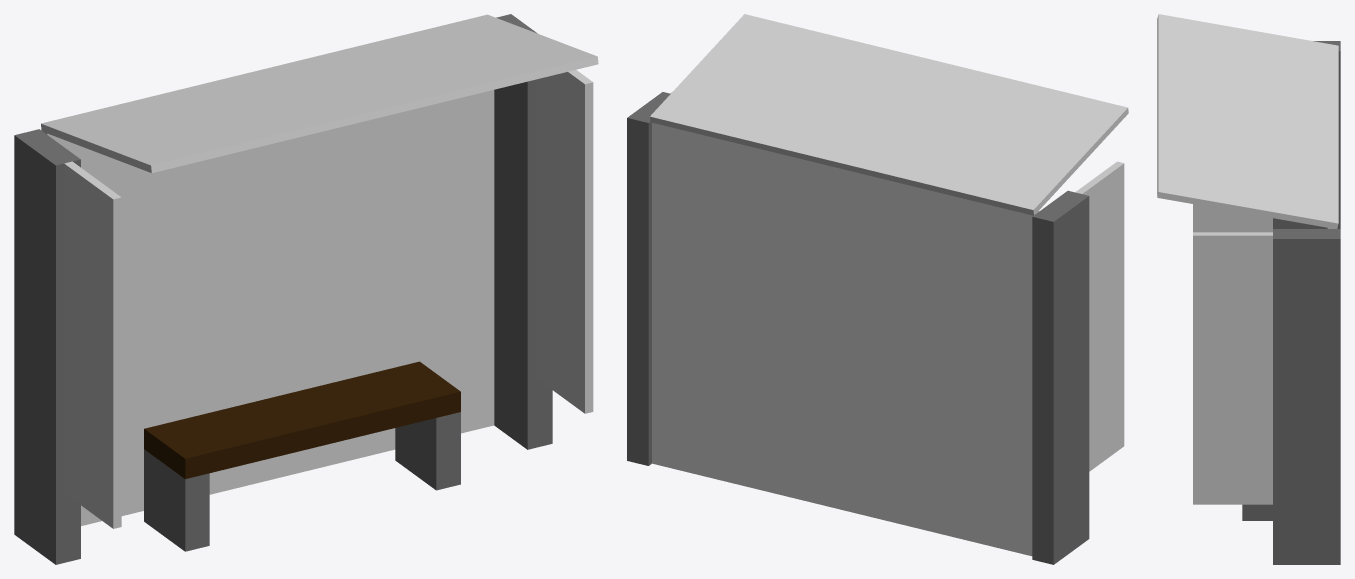
The model's file is BusStopLvl2.fbx.
3 views of the same model, side by side, from view 1: azimuth 30°, elevation 25°; view 2: azimuth 150°, elevation 25°; view 3: azimuth 270°, elevation 25° (orthographic). The views are drawn at different scales.
Parts seen in each view (by area): view 1: Cube.099; view 2: Cube.099; view 3: Cube.099.
Part boxes in pixels (left/top/right/bottom): Cube.099: left=14, top=14, right=598, bottom=564; Cube.099: left=627, top=14, right=1128, bottom=564; Cube.099: left=1157, top=14, right=1340, bottom=564.
Bounding box in the file's own units: 98.66 × 84.41 × 38.68.
